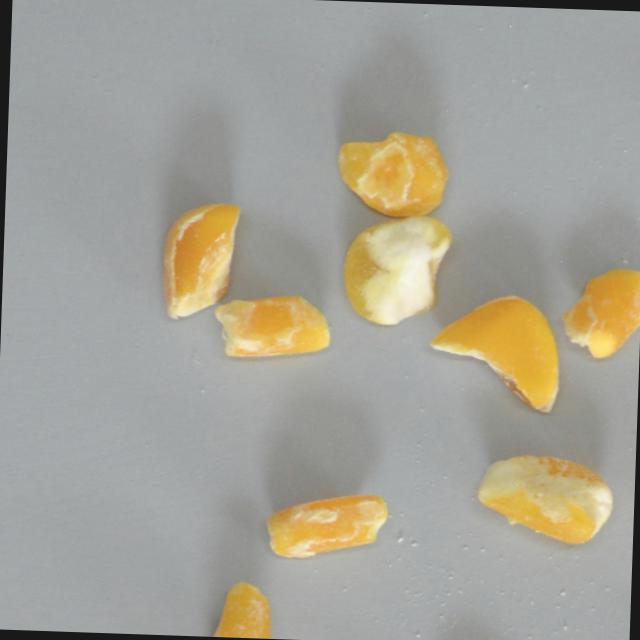no_canjicado: (340, 215, 452, 327)
pelicula: (426, 289, 562, 415), (476, 451, 615, 545), (334, 127, 450, 218), (162, 200, 242, 320), (264, 489, 388, 561), (212, 291, 331, 361), (561, 265, 640, 359), (206, 578, 271, 638)
